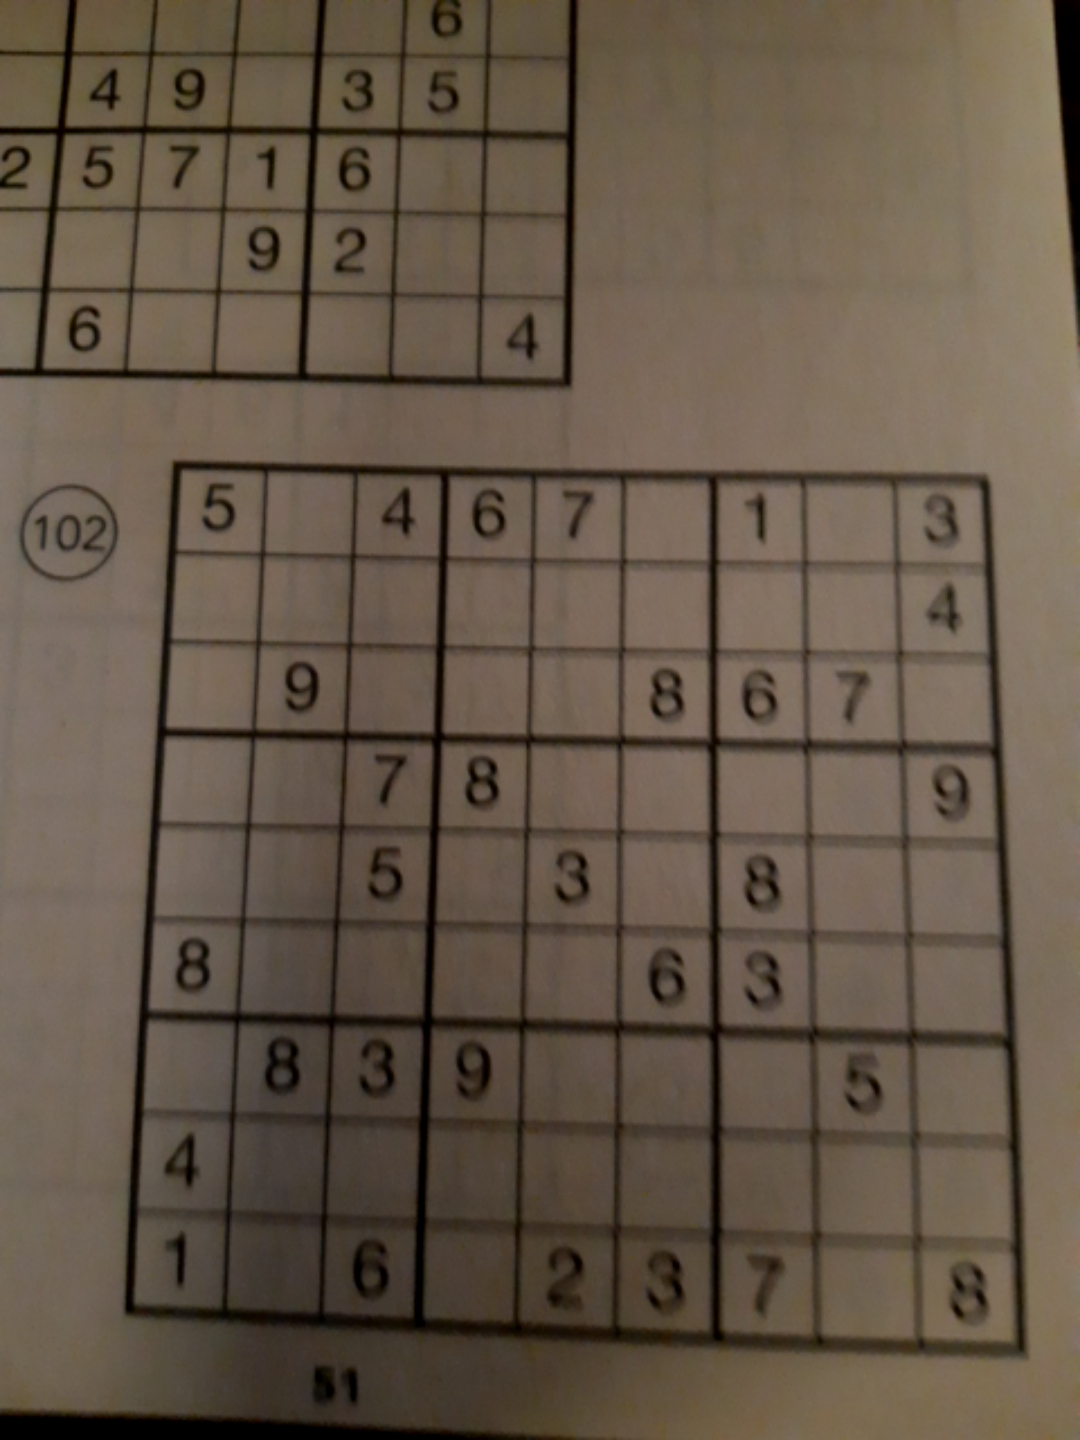sudoku: (120, 458, 1027, 1358)
